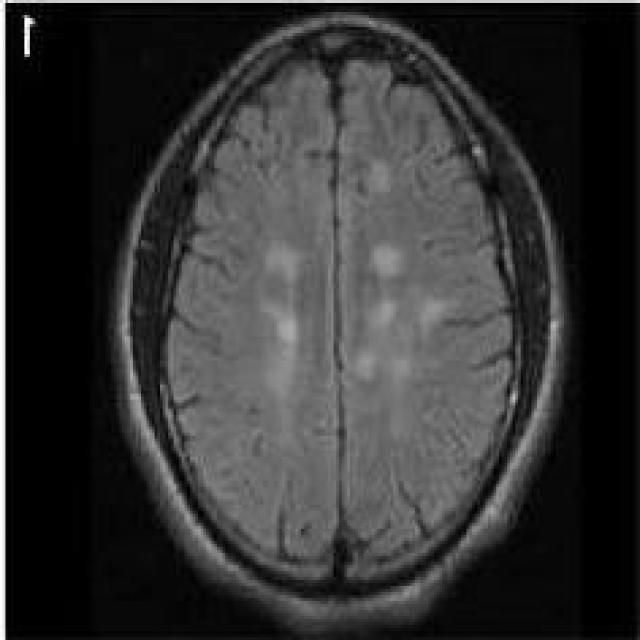notumor: (111, 12, 561, 631)
